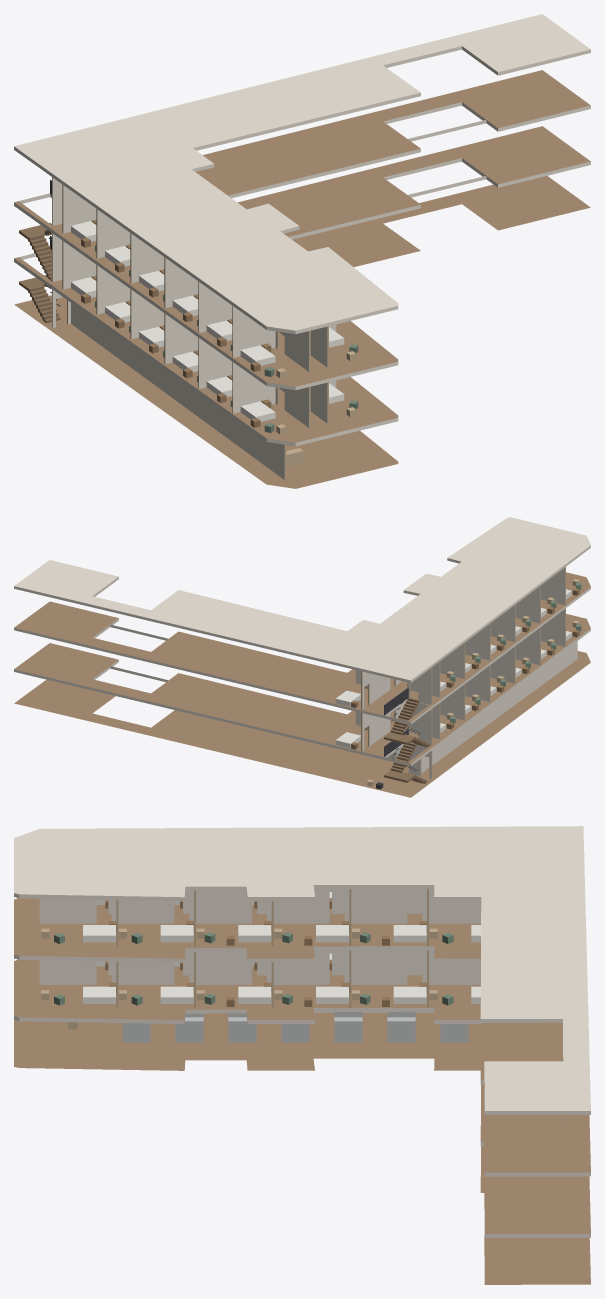
The model's file is interior.glb.
The picture shows the model from 3 angles, top to bottom: view 1: azimuth 30°, elevation 25°; view 2: azimuth 150°, elevation 25°; view 3: azimuth 270°, elevation 25°; orthographic projection. The views are drawn at different scales.
Parts seen in each view (by area): view 1: slabs, partitions, coarse-s1, coarse-s2, stair; view 2: slabs, partitions, stair, coarse-s1, coarse-s2; view 3: slabs, partitions, coarse-s2, coarse-s1, coarse-s0.
Part boxes in pixels (x1=…): slabs: x1=14, y1=14, x2=590, y2=488; partitions: x1=52, y1=177, x2=336, y2=479; coarse-s1: x1=71, y1=275, x2=358, y2=434; coarse-s2: x1=71, y1=219, x2=358, y2=378; stair: x1=19, y1=180, x2=60, y2=323; slabs: x1=14, y1=517, x2=590, y2=797; partitions: x1=355, y1=567, x2=577, y2=778; stair: x1=384, y1=687, x2=430, y2=783; coarse-s1: x1=335, y1=620, x2=581, y2=749; coarse-s2: x1=335, y1=579, x2=581, y2=707; slabs: x1=14, y1=826, x2=590, y2=1284; partitions: x1=39, y1=888, x2=481, y2=1012; coarse-s2: x1=41, y1=892, x2=480, y2=945; coarse-s1: x1=41, y1=953, x2=480, y2=1006; coarse-s0: x1=68, y1=1011, x2=468, y2=1042.
Bounding box in the file's own units: 40.75 × 11.6 × 34.87.
